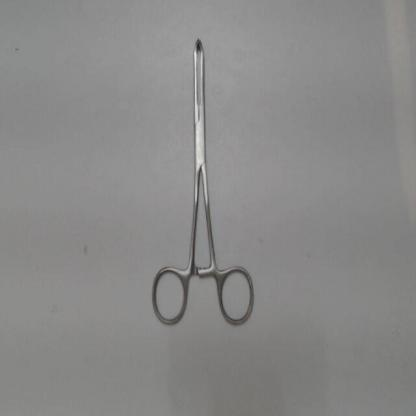Allis Tissue Forceps: (145, 23, 263, 333)
